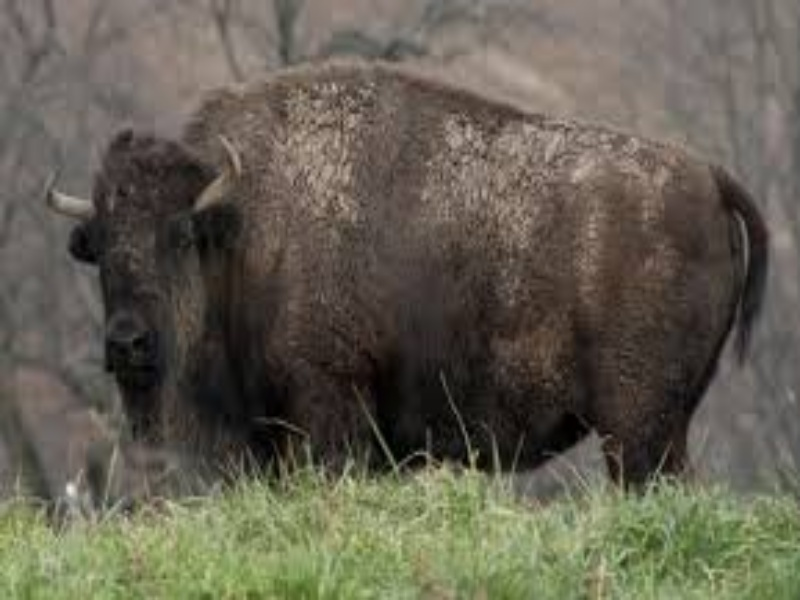buffalo: (49, 63, 753, 482)
